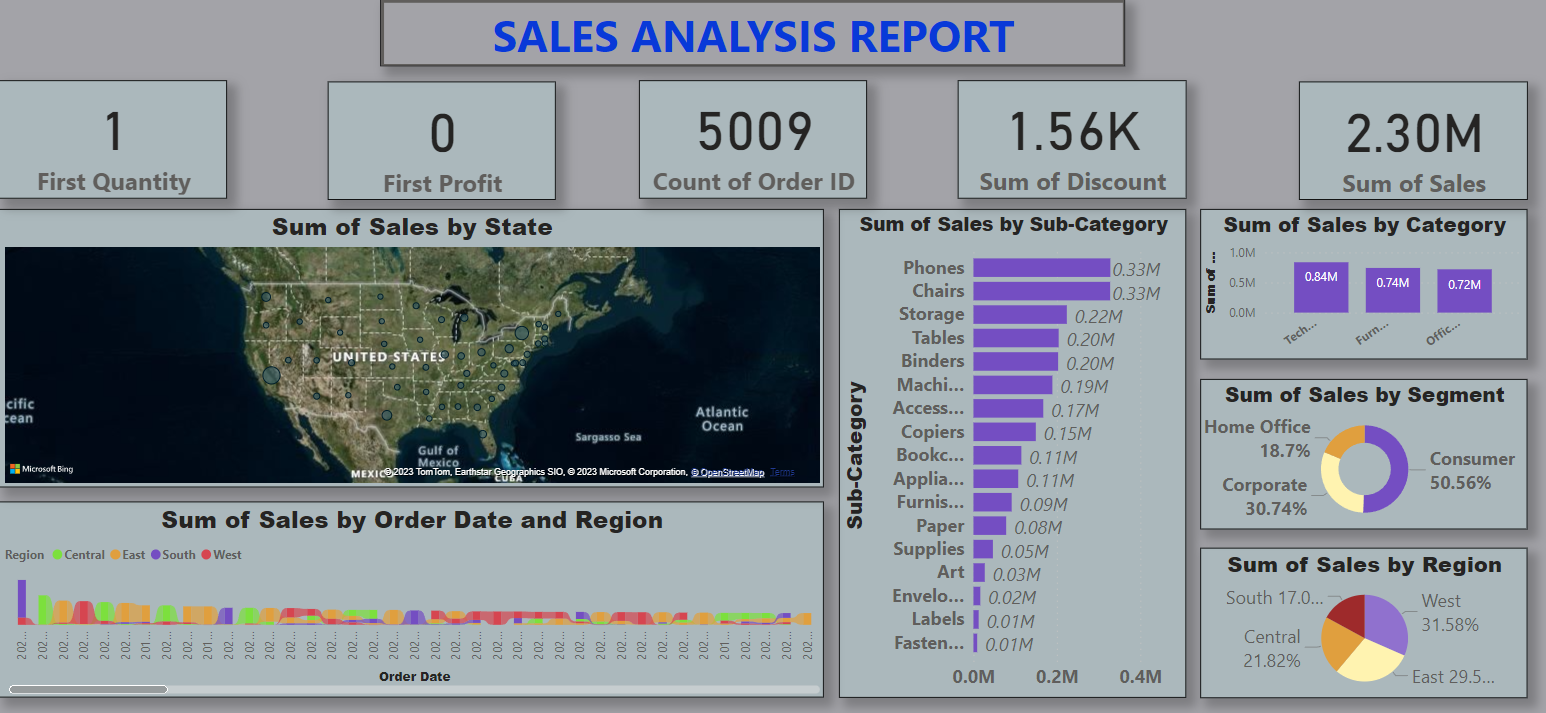

What the dashboard file says about the page in this screenshot:
{"tool":"powerbi","page":{"name":"Page 1","canvas":[1700,720],"ordinal":0},"visuals":[{"type":"clusteredBarChart","fields":{"Category":["Monthly Sales Data (2).Sub-Category"],"Y":["Sum(Monthly Sales Data (2).Sales)"]},"box":[840,210,347.5,488.8],"z":0},{"type":"pieChart","fields":{"Category":["Monthly Sales Data (2).Region"],"Y":["Sum(Monthly Sales Data (2).Sales)"]},"box":[1201.2,548.8,327.5,150],"z":1000},{"type":"donutChart","fields":{"Category":["Monthly Sales Data (2).Segment"],"Y":["Sum(Monthly Sales Data (2).Sales)"]},"box":[1201.2,380,327.5,150],"z":2000},{"type":"columnChart","fields":{"Category":["Monthly Sales Data (2).Category"],"Y":["Sum(Monthly Sales Data (2).Sales)"]},"box":[1201.2,210,327.5,150],"z":3000},{"type":"ribbonChart","fields":{"Series":["Monthly Sales Data (2).Region"],"Y":["Sum(Monthly Sales Data (2).Sales)"],"Category":["Monthly Sales Data (2).Order Date"]},"box":[0,502.5,825,196.2],"z":4000},{"type":"actionButton","title":"SALES ANALYSIS REPORT","box":[381.2,0,745,67.5],"z":5000},{"type":"map","fields":{"Category":["Monthly Sales Data (2).State"],"Size":["Sum(Monthly Sales Data (2).Sales)"]},"box":[0,210,825,278.8],"z":6000},{"type":"card","fields":{"Values":["Min(Monthly Sales Data (2).Quantity)"]},"box":[0,81.2,228,118.8],"z":7000},{"type":"card","fields":{"Values":["Min(Monthly Sales Data (2).Profit)"]},"box":[328.8,82.5,228,118.8],"z":8000},{"type":"card","fields":{"Values":["Sum(Monthly Sales Data (2).Sales)"]},"box":[1300,82.5,228.8,118.8],"z":9000},{"type":"card","fields":{"Values":["Sum(Monthly Sales Data (2).Discount)"]},"box":[958.8,81.2,228.8,118.8],"z":10000},{"type":"card","fields":{"Values":["Count(Monthly Sales Data (2).Order ID)"]},"box":[640,81.2,228,118.8],"z":11000}]}

Visuals, with their boxes on the page's 1700x720 design canvas (x1, y1, x2, y2). These are canvas units, not pixel positions in the 1546x713 screenshot, which may show the page scaled, cropped or inside an application window:
clusteredBarChart - Monthly Sales Data (2).Sub-Category x Sum(Monthly Sales Data (2).Sales): <box>840,210,1188,699</box>
pieChart - Monthly Sales Data (2).Region x Sum(Monthly Sales Data (2).Sales): <box>1201,549,1529,699</box>
donutChart - Monthly Sales Data (2).Segment x Sum(Monthly Sales Data (2).Sales): <box>1201,380,1529,530</box>
columnChart - Monthly Sales Data (2).Category x Sum(Monthly Sales Data (2).Sales): <box>1201,210,1529,360</box>
ribbonChart - Monthly Sales Data (2).Region x Sum(Monthly Sales Data (2).Sales): <box>0,502,825,699</box>
"SALES ANALYSIS REPORT" actionButton: <box>381,0,1126,68</box>
map - Monthly Sales Data (2).State x Sum(Monthly Sales Data (2).Sales): <box>0,210,825,489</box>
card - Min(Monthly Sales Data (2).Quantity): <box>0,81,228,200</box>
card - Min(Monthly Sales Data (2).Profit): <box>329,82,557,201</box>
card - Sum(Monthly Sales Data (2).Sales): <box>1300,82,1529,201</box>
card - Sum(Monthly Sales Data (2).Discount): <box>959,81,1188,200</box>
card - Count(Monthly Sales Data (2).Order ID): <box>640,81,868,200</box>
